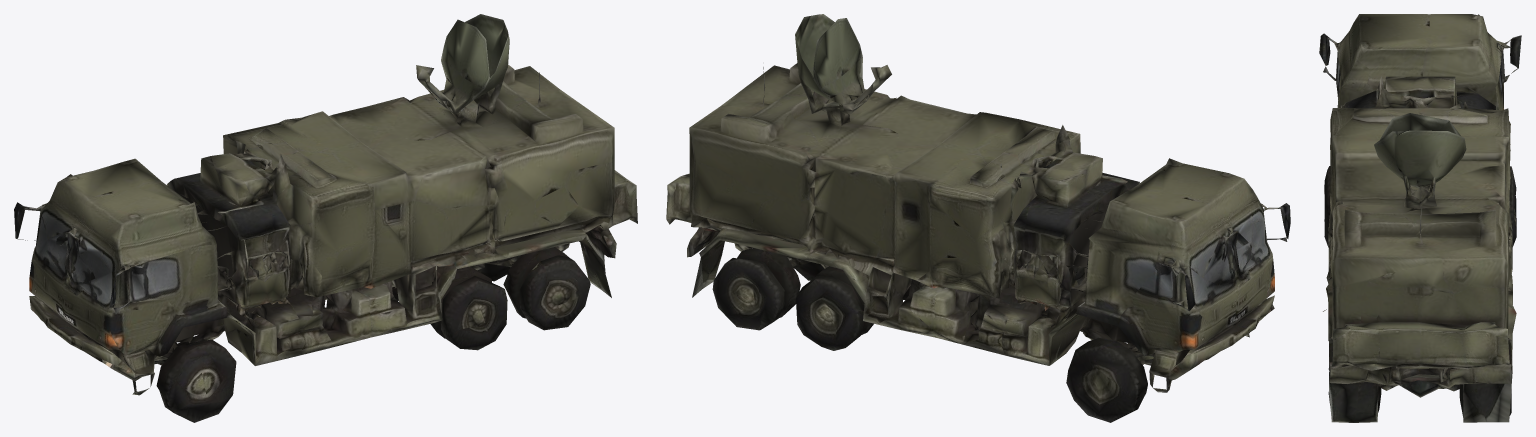
File: radar_truck.glb
The picture shows the model from 3 angles, left to right: view 1: azimuth 30°, elevation 25°; view 2: azimuth 150°, elevation 25°; view 3: azimuth 270°, elevation 25°; orthographic projection.
Parts seen in each view (by area): view 1: radar_truck; view 2: radar_truck; view 3: radar_truck.
Boxes of the visible parts, bbox=[...] form: radar_truck: bbox=[14, 14, 637, 422]; radar_truck: bbox=[666, 14, 1290, 422]; radar_truck: bbox=[1319, 14, 1521, 422].
Size of the model in its own units: 1.9 by 0.9668 by 0.6238.
Materials: 1 (1 with a texture image).
